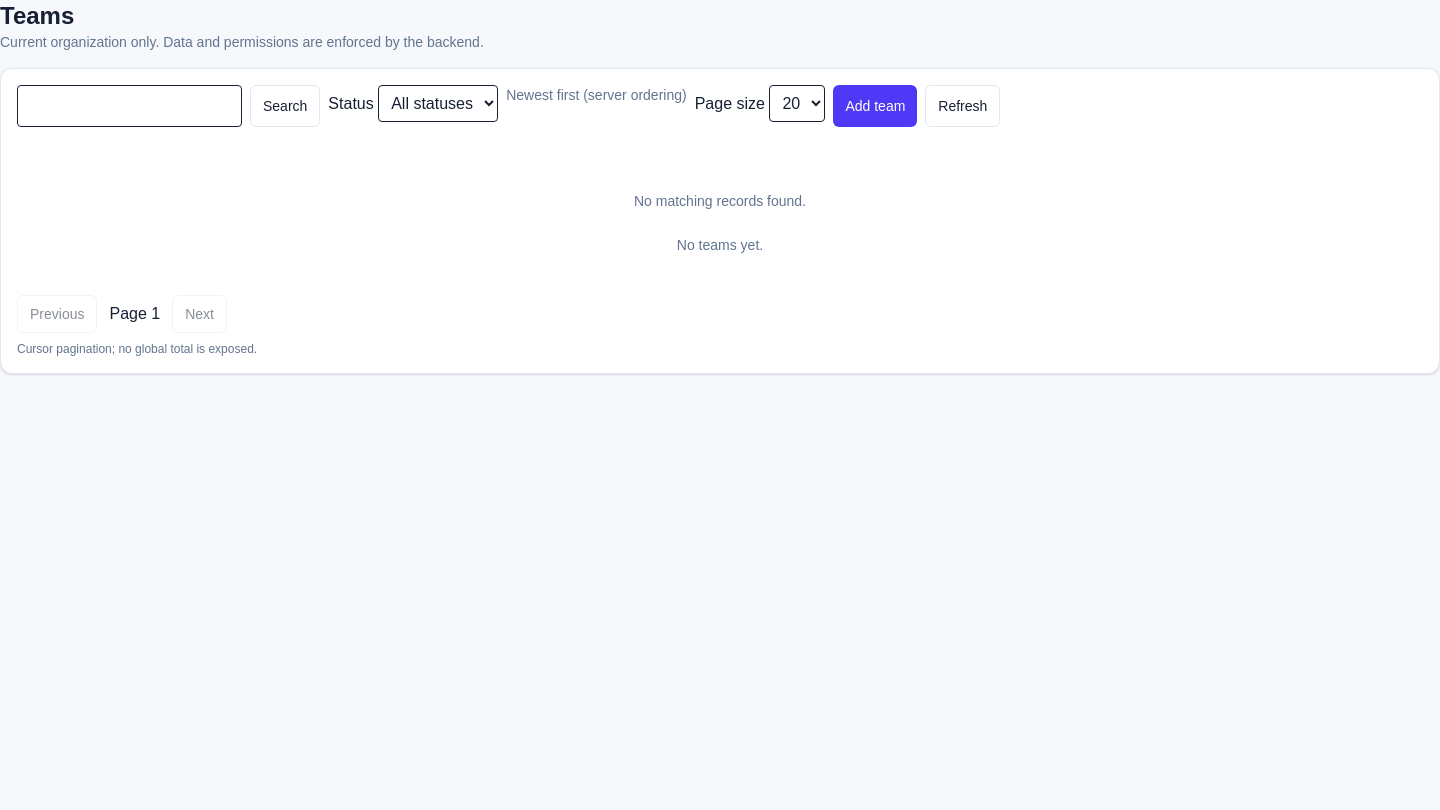
Scenario: creates a team using the real schema and confirms server feedback
Click the button "Add team".
click(875, 106)  # box x1=833 y1=85 x2=917 y2=127
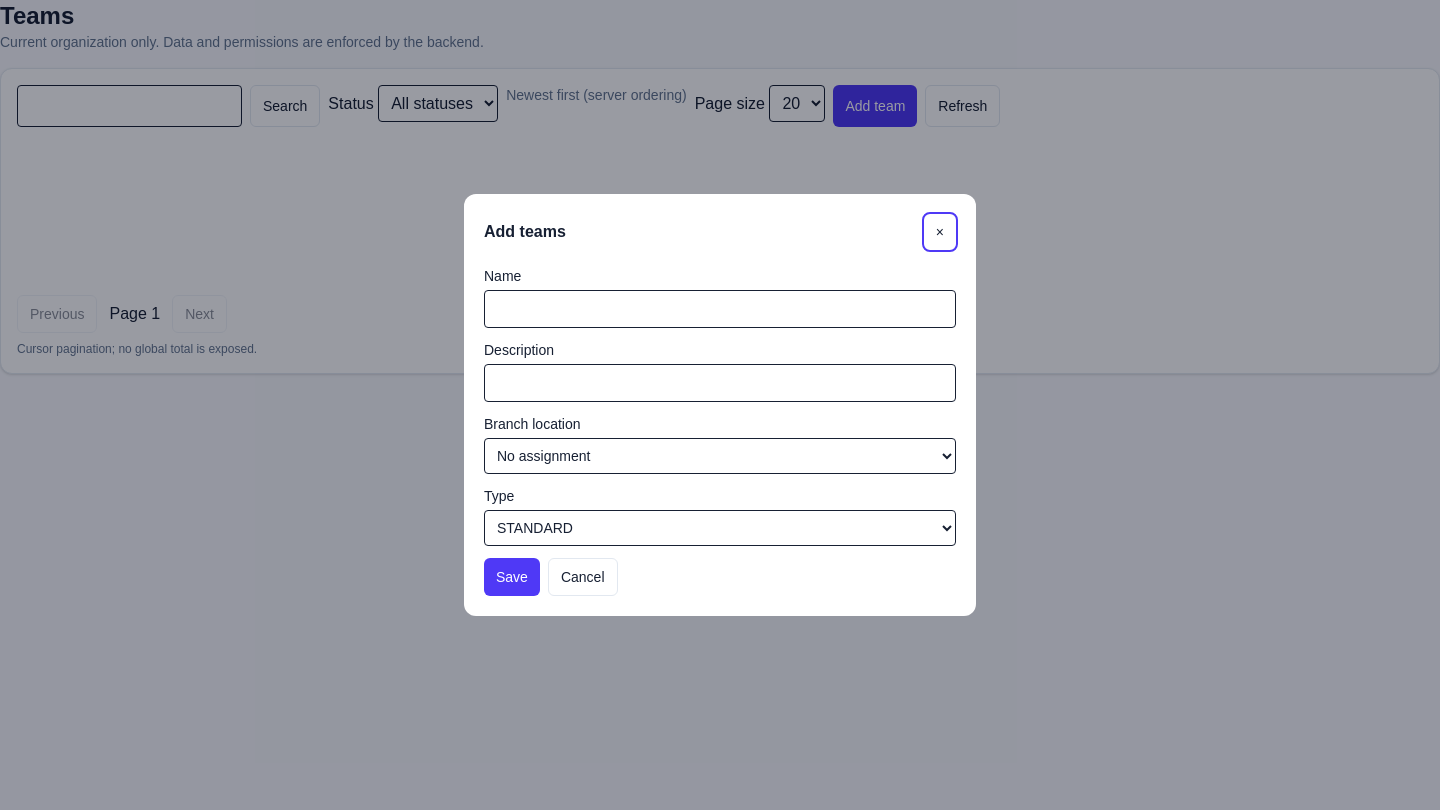
Type "Operations" into the field labelled "Name".
click(720, 309); type("Operations")  # box x1=484 y1=290 x2=956 y2=328
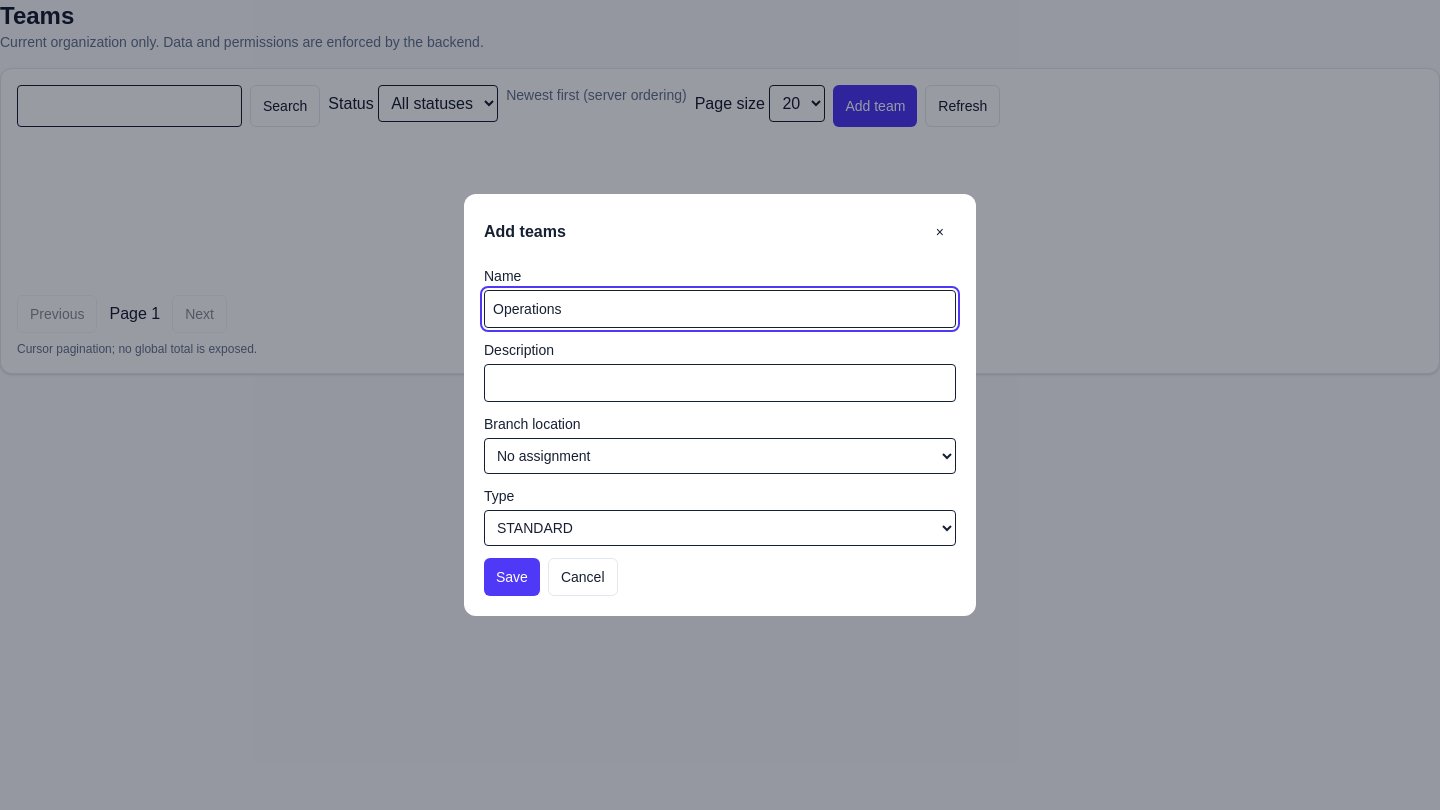
Click the button "Save".
click(512, 577)  # box x1=484 y1=558 x2=540 y2=596
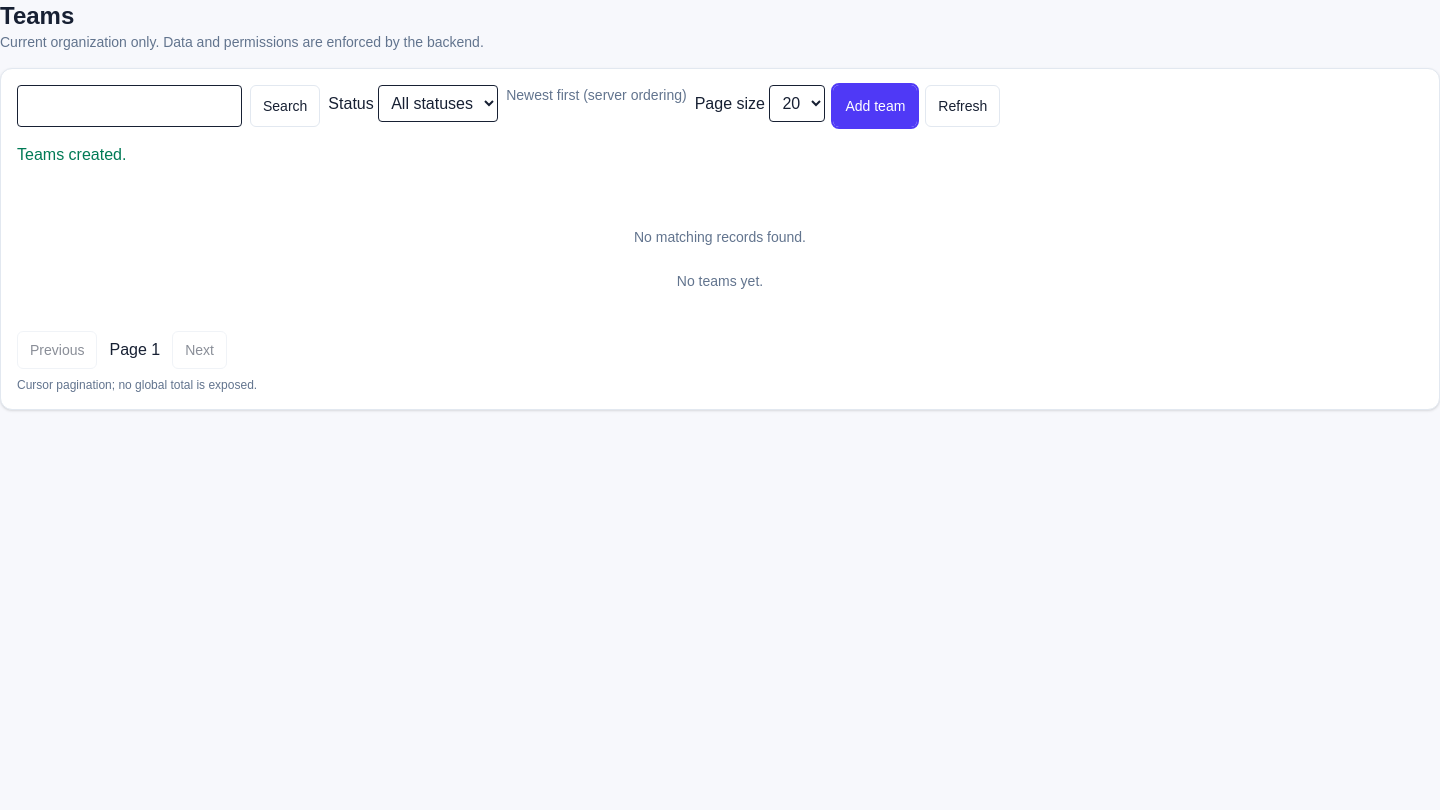
Check: the text "Teams created." is shown, box x1=17 y1=146 x2=126 y2=163
